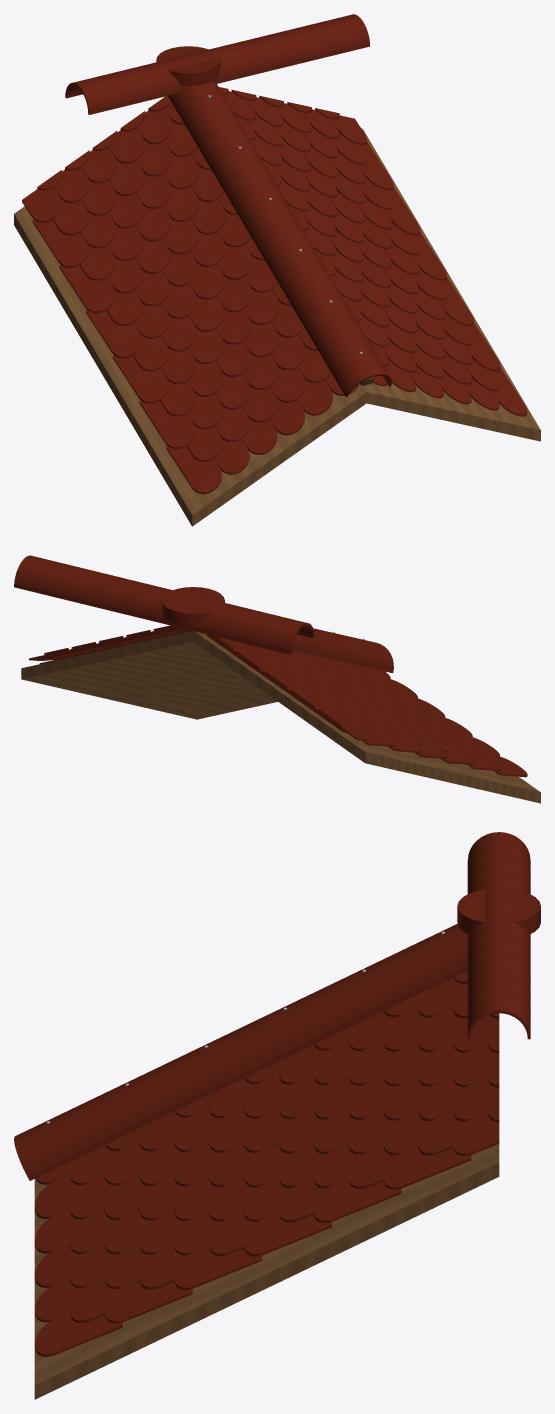
Rendered from modell.glb.
3 views of the same model, one above another, from view 1: azimuth 30°, elevation 25°; view 2: azimuth 150°, elevation 25°; view 3: azimuth 270°, elevation 25° (orthographic). The views are drawn at different scales.
Parts seen in each view (by area): view 1: w03-ziegel_deckung, w03-gratziegel_deckung, w03-walmflaeche_tragwerk, w03-first_deckung, w03-knoten_deckung; view 2: w03-walmflaeche_tragwerk, w03-ziegel_deckung, w03-first_deckung, w03-gratziegel_deckung, w03-knoten_deckung; view 3: w03-ziegel_deckung, w03-gratziegel_deckung, w03-walmflaeche_tragwerk, w03-first_deckung, w03-knoten_deckung.
Boxes of the visible parts, left/top/right/bottom form: w03-ziegel_deckung: left=22, top=87, right=527, bottom=494; w03-gratziegel_deckung: left=168, top=81, right=391, bottom=396; w03-walmflaeche_tragwerk: left=14, top=128, right=540, bottom=526; w03-first_deckung: left=65, top=14, right=370, bottom=114; w03-knoten_deckung: left=156, top=46, right=220, bottom=86; w03-walmflaeche_tragwerk: left=21, top=631, right=540, bottom=803; w03-ziegel_deckung: left=29, top=625, right=527, bottom=777; w03-first_deckung: left=14, top=555, right=314, bottom=654; w03-gratziegel_deckung: left=292, top=628, right=393, bottom=672; w03-knoten_deckung: left=161, top=587, right=224, bottom=626; w03-ziegel_deckung: left=34, top=971, right=499, bottom=1356; w03-gratziegel_deckung: left=14, top=924, right=468, bottom=1180; w03-walmflaeche_tragwerk: left=34, top=1144, right=499, bottom=1399; w03-first_deckung: left=467, top=832, right=530, bottom=1039; w03-knoten_deckung: left=457, top=889, right=540, bottom=934.
Size of the model in its own units: 2.26 by 1.84 by 2.27.
Materials: 3 (2 with a texture image).
